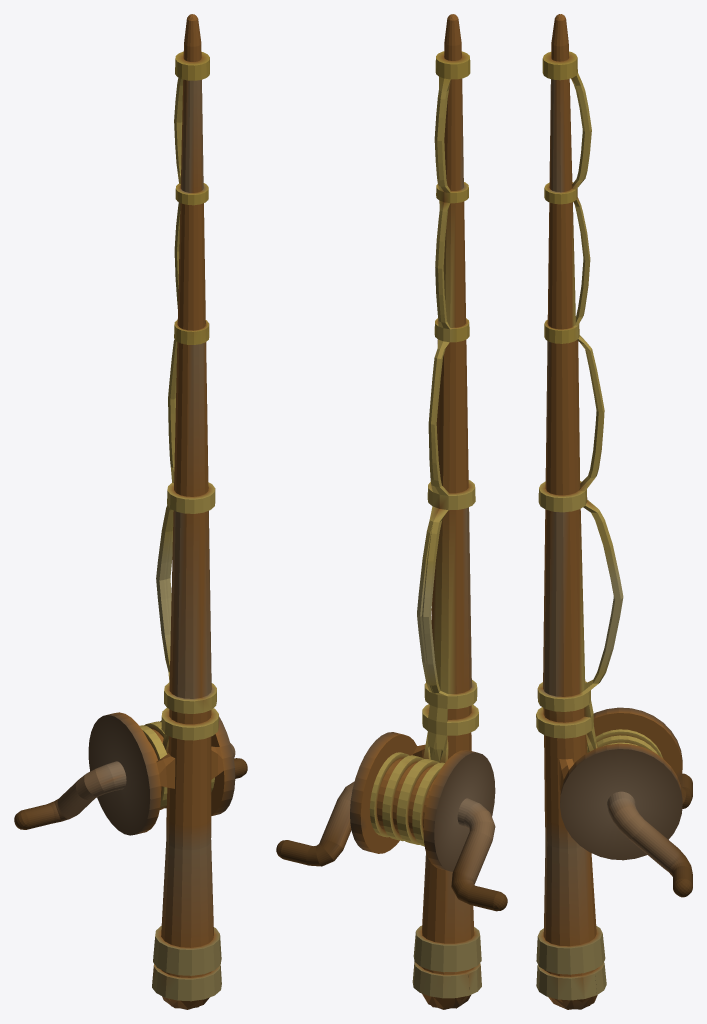
Rendered from FishingRodBase.fbx.
3 renders of one model, left to right at view 1: azimuth 30°, elevation 25°; view 2: azimuth 150°, elevation 25°; view 3: azimuth 270°, elevation 25°, orthographic.
Visible parts, largest first — view 1: Cylinder; view 2: Cylinder; view 3: Cylinder.
Boxes of the visible parts, left/top/right/bottom form: Cylinder: left=14, top=14, right=247, bottom=1009; Cylinder: left=276, top=14, right=507, bottom=1009; Cylinder: left=536, top=14, right=692, bottom=1009.
Bounding box in the file's own units: 432 × 1784 × 255.
